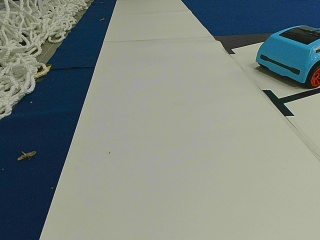car: (255, 22, 318, 87)
